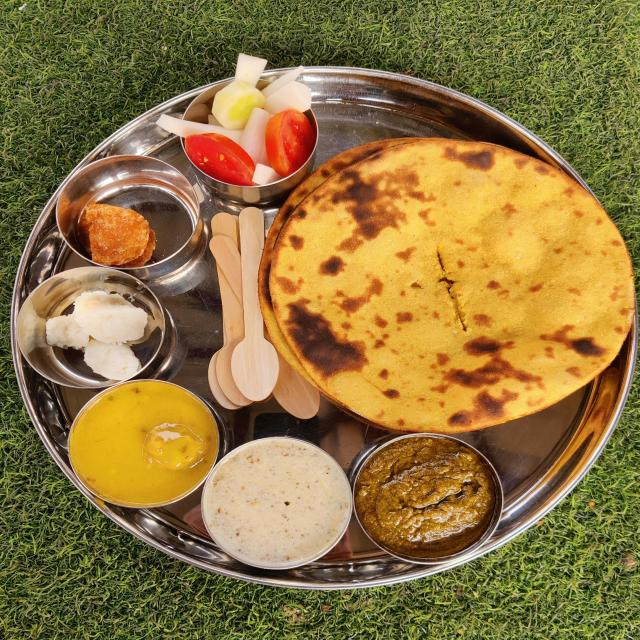Chapati: (263, 137, 624, 430)
Hari Bhaji: (354, 436, 501, 562)
Kadhi: (70, 379, 214, 505)
Raita: (202, 440, 350, 570)
Salad: (159, 56, 322, 182)
